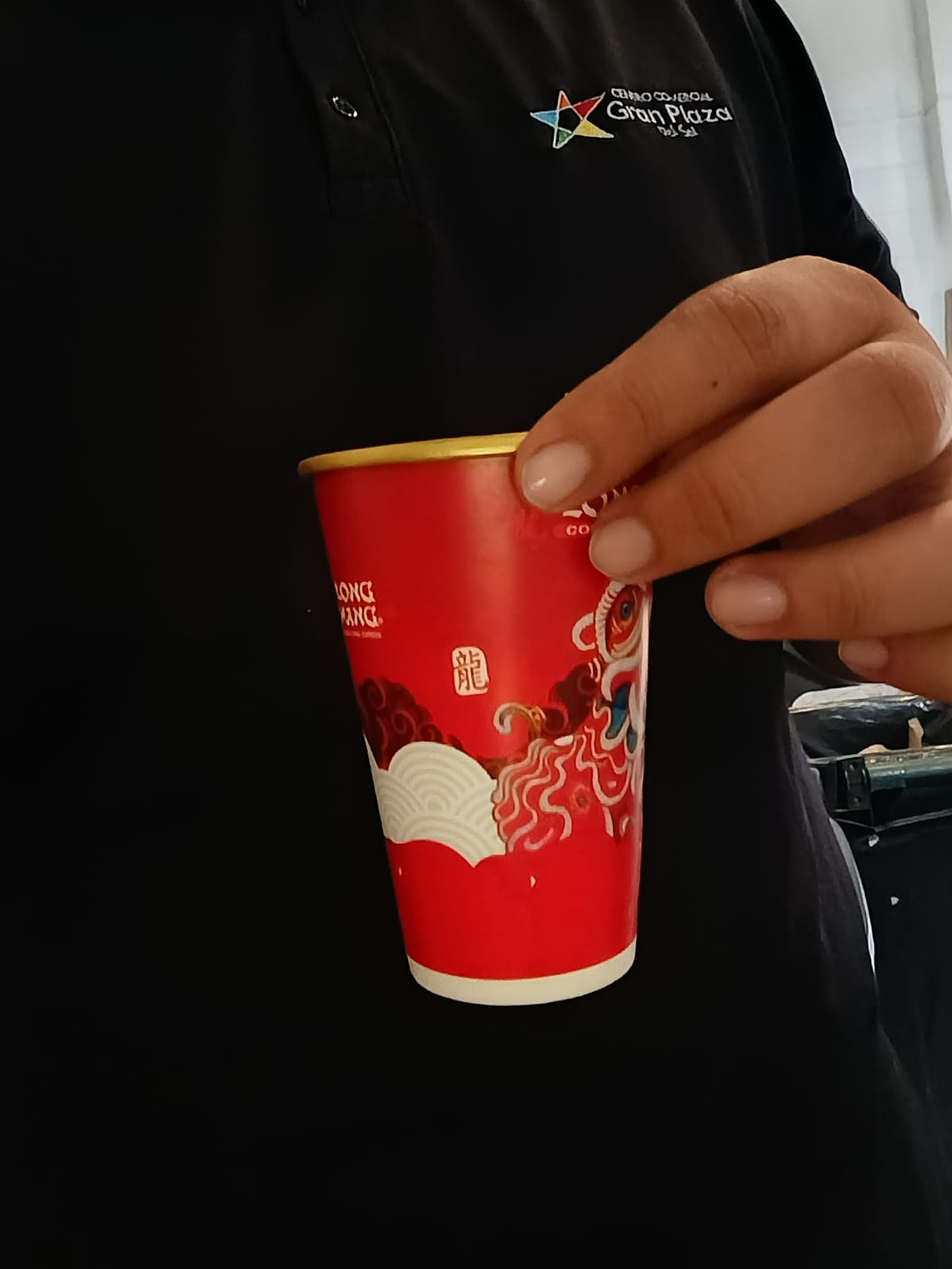Carton: (301, 430, 657, 1009)
